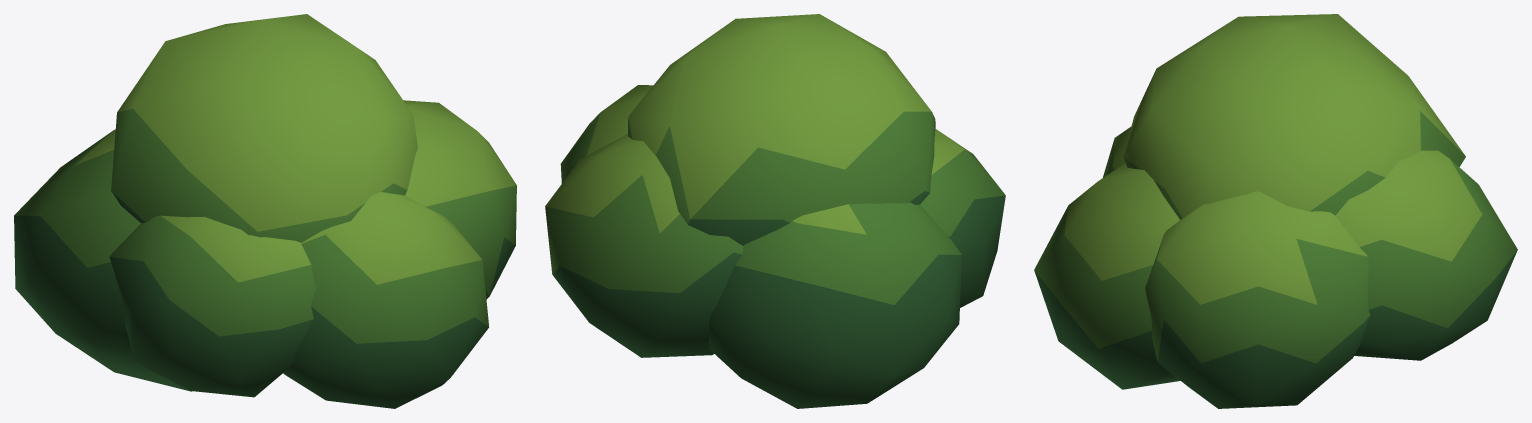
Rendered from BushC_LOD.glb.
3 renders of one model, left to right at view 1: azimuth 30°, elevation 25°; view 2: azimuth 150°, elevation 25°; view 3: azimuth 270°, elevation 25°, orthographic. The views are drawn at different scales.
Parts seen in each view (by area): view 1: BushC_LOD.leafLight, BushC_LOD.leafMid, BushC_LOD.leafDark; view 2: BushC_LOD.leafMid, BushC_LOD.leafLight, BushC_LOD.leafDark; view 3: BushC_LOD.leafLight, BushC_LOD.leafMid, BushC_LOD.leafDark.
Boxes of the visible parts, left/top/right/bottom form: BushC_LOD.leafLight: left=75, top=14, right=516, bottom=284; BushC_LOD.leafMid: left=14, top=108, right=516, bottom=343; BushC_LOD.leafDark: left=14, top=191, right=515, bottom=408; BushC_LOD.leafMid: left=545, top=111, right=1005, bottom=304; BushC_LOD.leafLight: left=545, top=14, right=971, bottom=234; BushC_LOD.leafDark: left=552, top=191, right=1005, bottom=408; BushC_LOD.leafLight: left=1064, top=14, right=1482, bottom=304; BushC_LOD.leafMid: left=1034, top=111, right=1517, bottom=363; BushC_LOD.leafDark: left=1034, top=250, right=1517, bottom=408.
Bounding box in the file's own units: 3.88 × 2.98 × 3.84.
